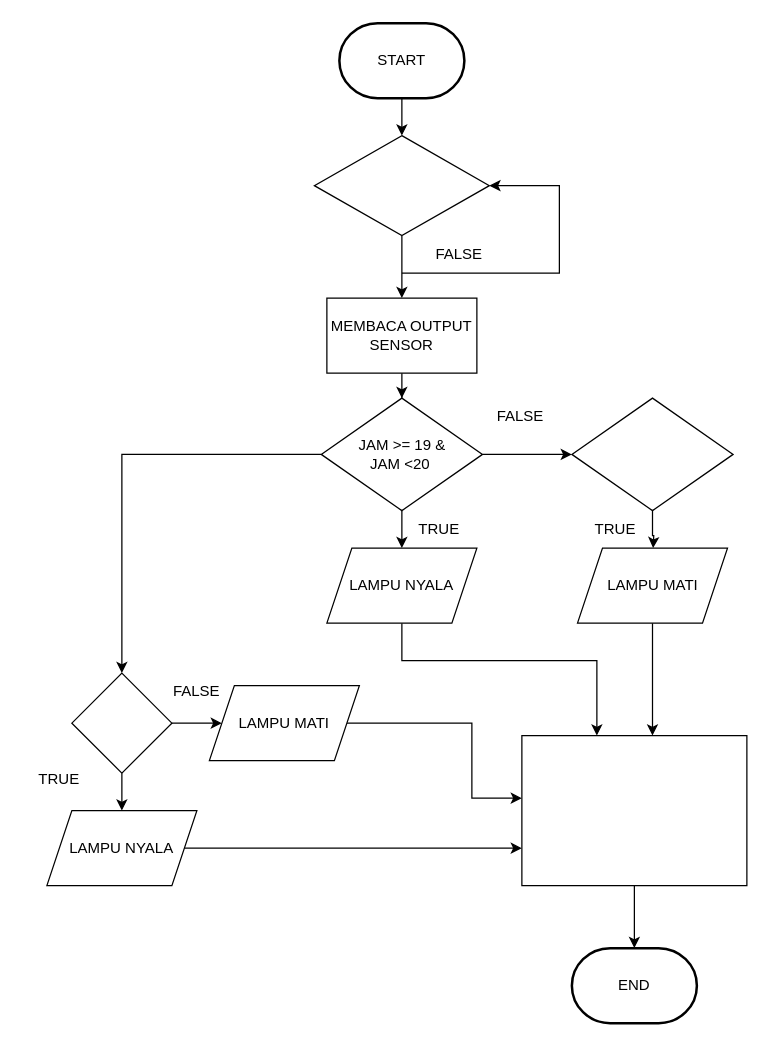
Image size: 769x1045. Some labels were removed from this diagram. Each missing label, with the centre of its shape:
"CONNECT WIFI" belongs at pixel 401 185.
"JAM < 19 & JAM >= 20" belongs at pixel 652 454.
"KIRIM DATA SENSOR KE ANTARES" belongs at pixel 634 810.
"SENTUH" belongs at pixel 121 722.
